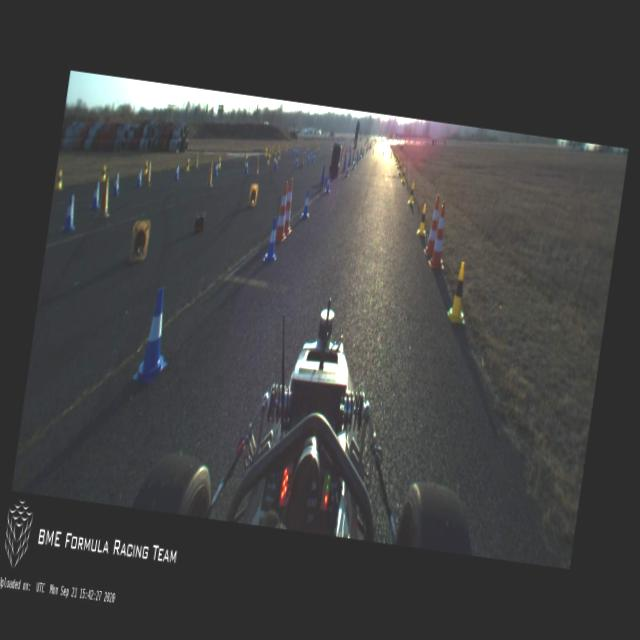blue_cone: (132, 284, 178, 386), (262, 214, 282, 264), (61, 191, 81, 236), (89, 180, 103, 211), (300, 188, 313, 220), (111, 171, 122, 197), (324, 173, 332, 195), (136, 167, 144, 188), (173, 164, 180, 182), (213, 160, 220, 177), (243, 158, 250, 174), (274, 156, 280, 172), (345, 162, 350, 178), (294, 156, 300, 168), (352, 158, 356, 170), (356, 156, 359, 164)
large_orange_cone: (428, 200, 453, 272), (274, 180, 294, 243), (422, 194, 442, 257), (282, 178, 299, 238)
yellow_cone: (446, 260, 474, 326), (416, 202, 431, 238), (55, 168, 66, 192), (407, 182, 417, 206), (100, 164, 108, 182), (143, 159, 150, 176), (401, 167, 407, 183), (186, 156, 192, 172), (398, 161, 403, 174), (218, 156, 222, 170), (267, 154, 271, 166), (396, 158, 400, 169), (274, 151, 278, 162), (278, 152, 282, 160)
